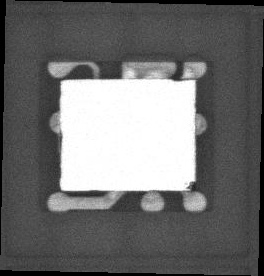DIE_BROKEN: (166, 76, 195, 83), (183, 181, 197, 191)
